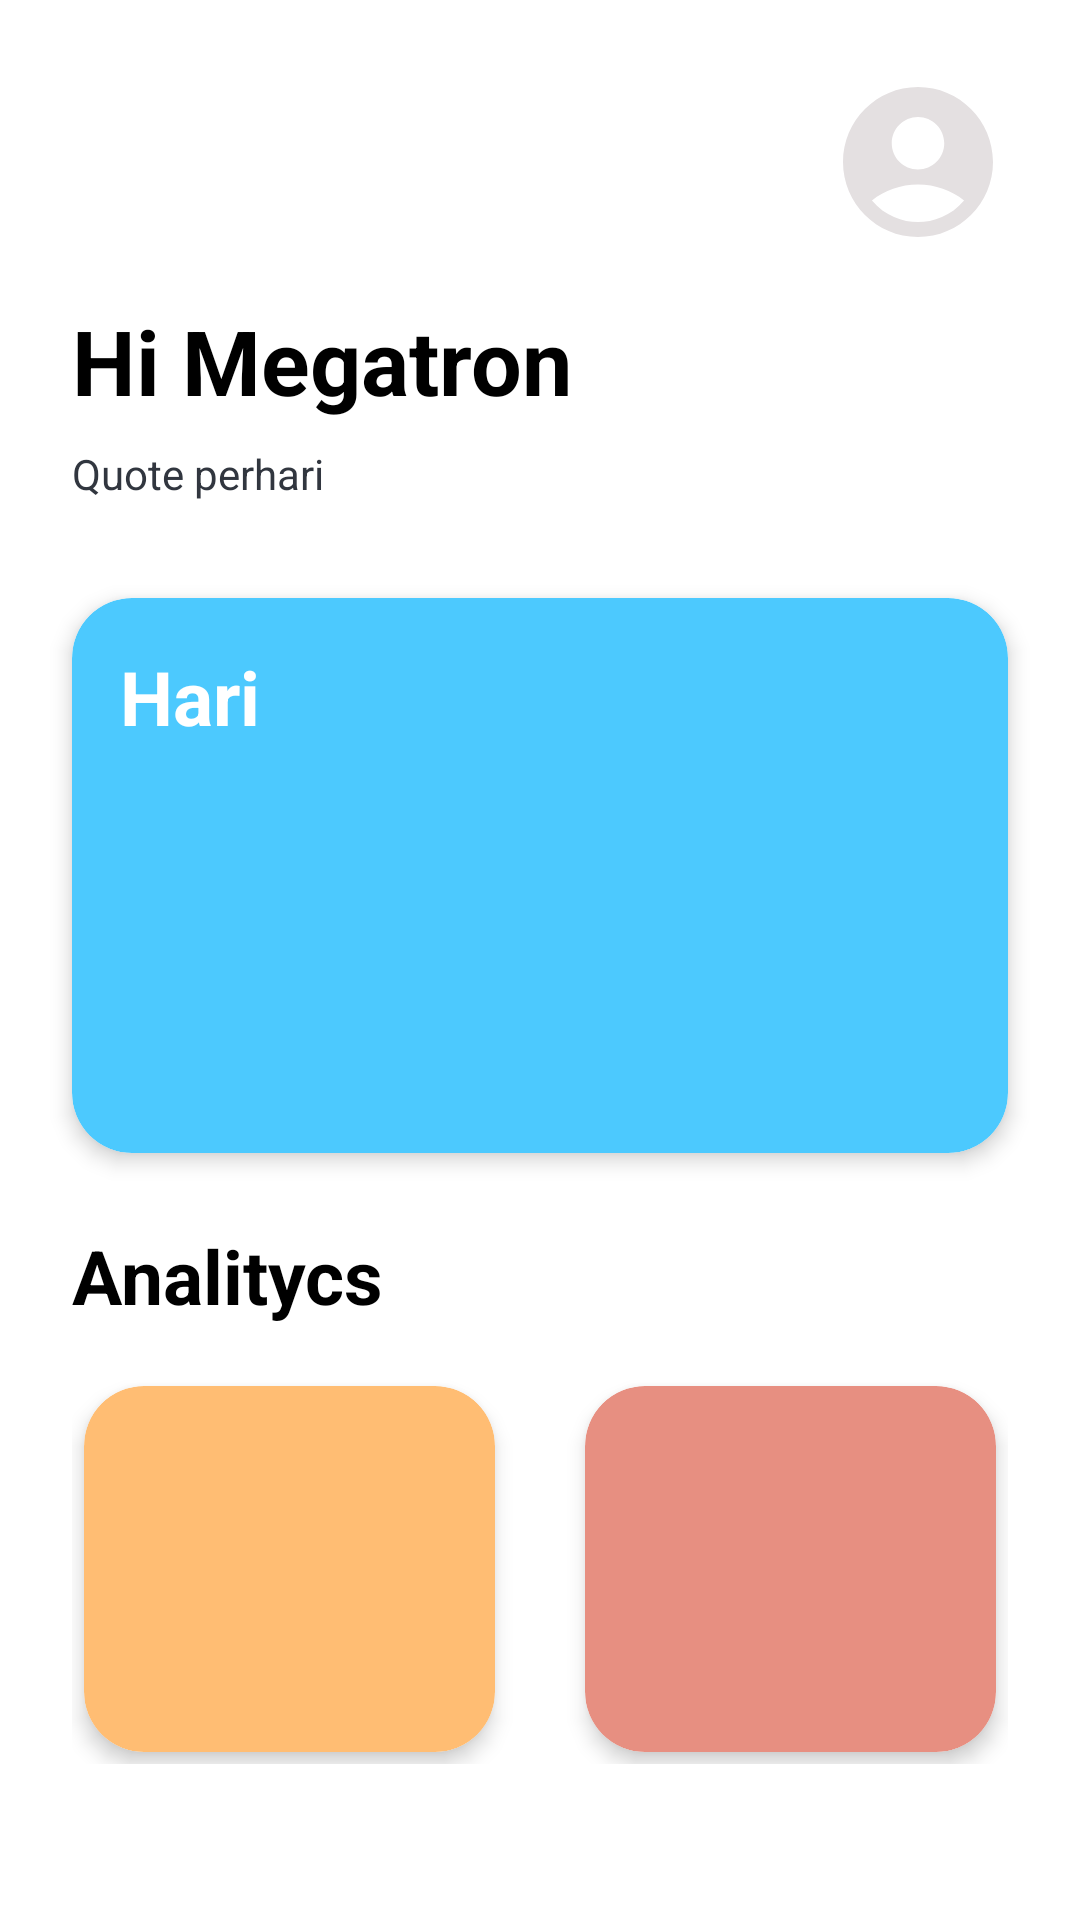

Screen size 1080x1920. Icon name, then its box in pixels as BBox(x1, y1, x2, y2):
profil: BBox(843, 87, 993, 237)
